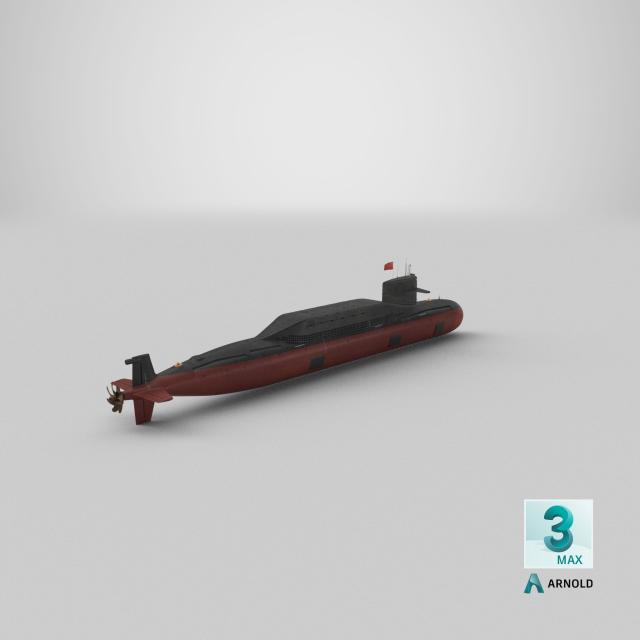Submarine-Jin-Class-CHI: (105, 255, 468, 432)
